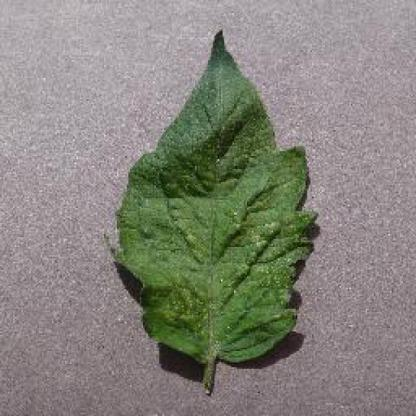Tomato_Spider_Mites: (106, 31, 317, 361)
